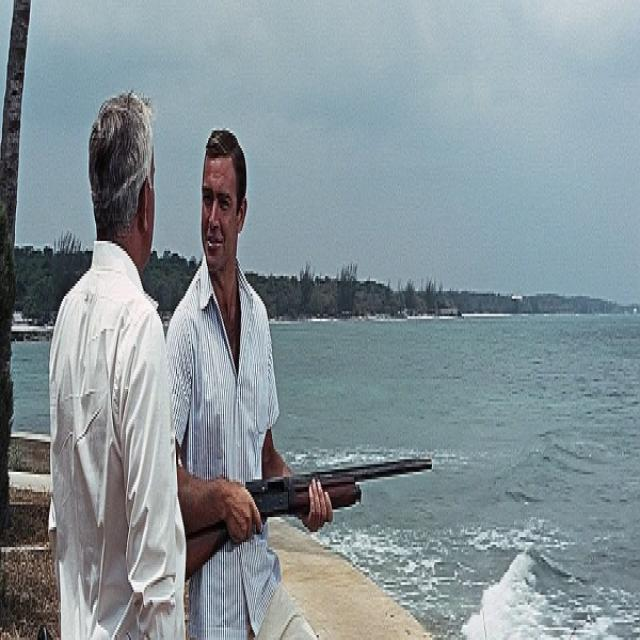rifle: (178, 444, 439, 584)
